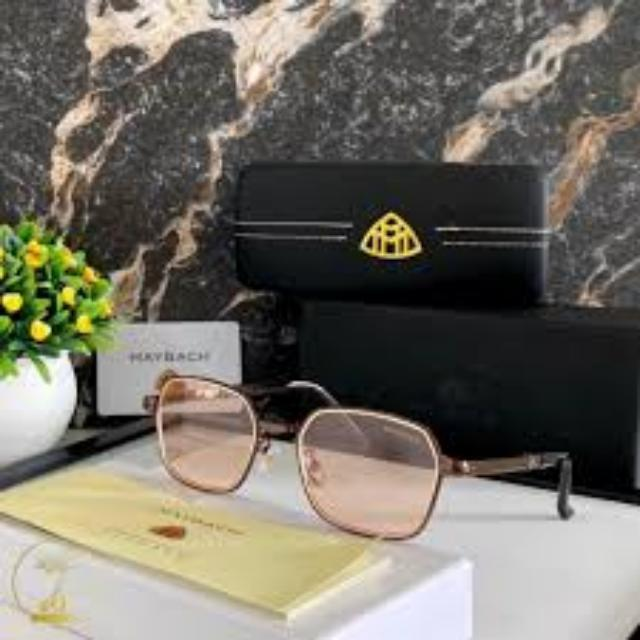sunglasses: (143, 372, 577, 540)
